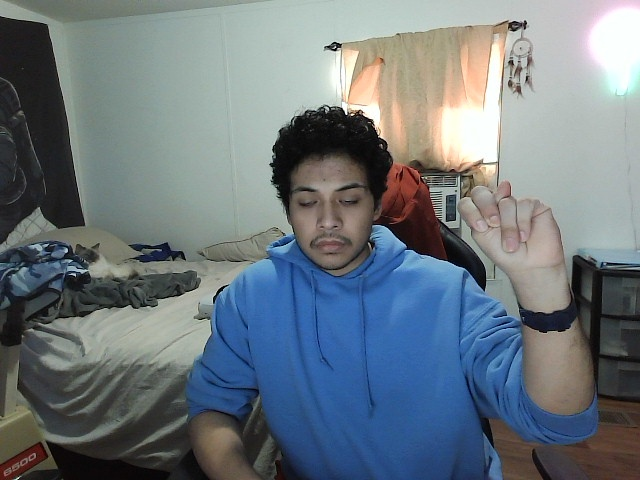N: (453, 176, 569, 269)
